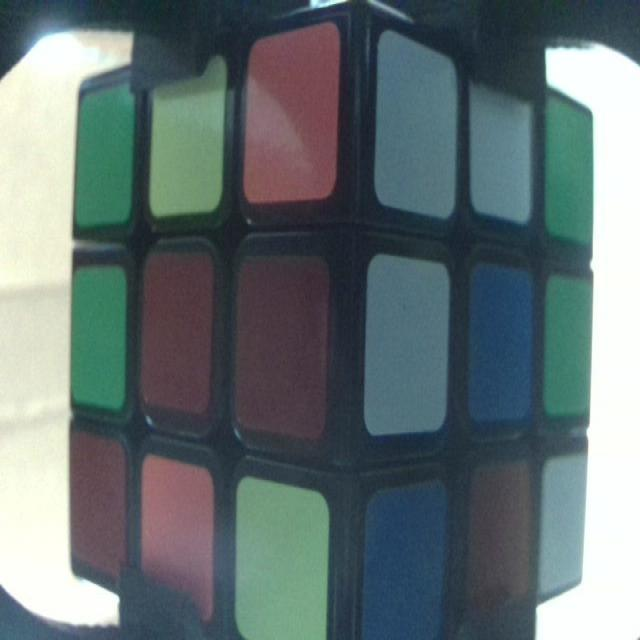b: (238, 480, 328, 640), (370, 489, 441, 640), (474, 265, 529, 415)
g: (73, 271, 126, 408), (80, 95, 131, 217), (548, 105, 592, 240), (546, 279, 590, 408)
o: (250, 39, 335, 197), (145, 460, 211, 613)
r: (240, 261, 323, 435), (144, 257, 210, 407), (68, 431, 125, 573), (475, 468, 528, 601)
w: (367, 256, 449, 428), (377, 35, 454, 217), (474, 76, 531, 220), (545, 464, 581, 587)
y: (152, 75, 220, 208)
